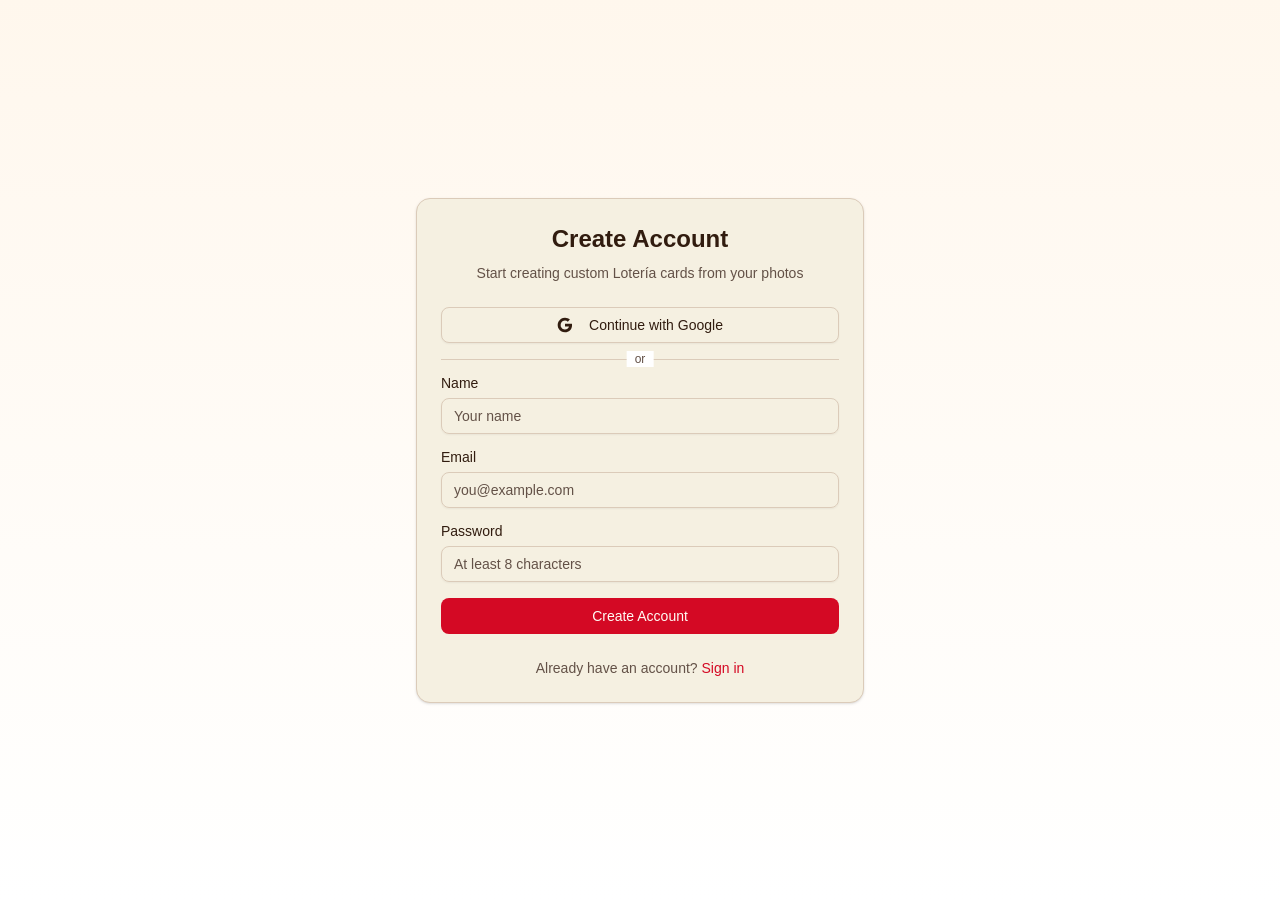
Test: sign-up page error handling › never renders better-auth’s account-existence message
The image size is (1280, 900).
Type "Ada" into the field labelled "Name" at coordinates (640, 416), box [441,398,839,434]
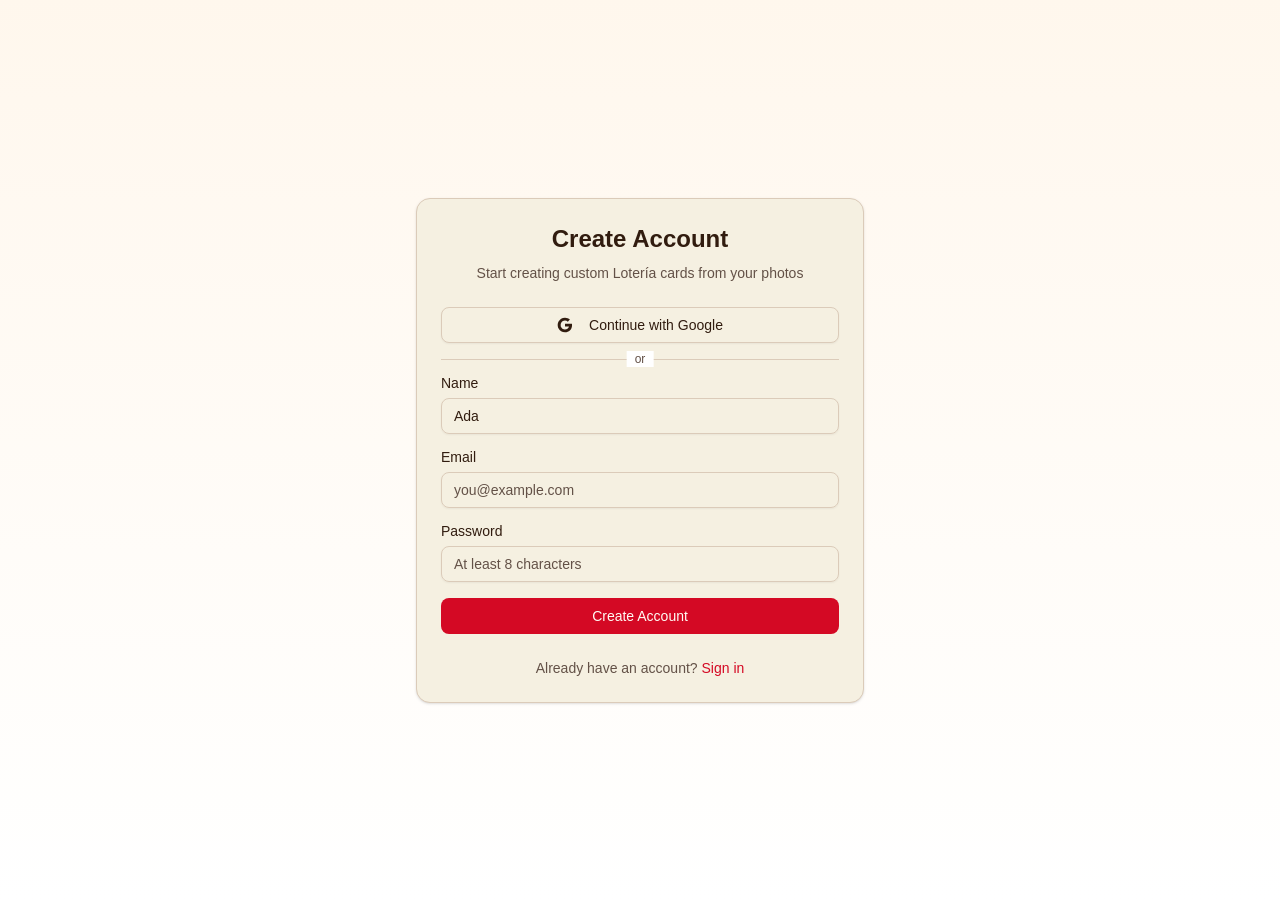
Type "taken@example.com" into the field labelled "Email" at coordinates (640, 490), box [441,472,839,508]
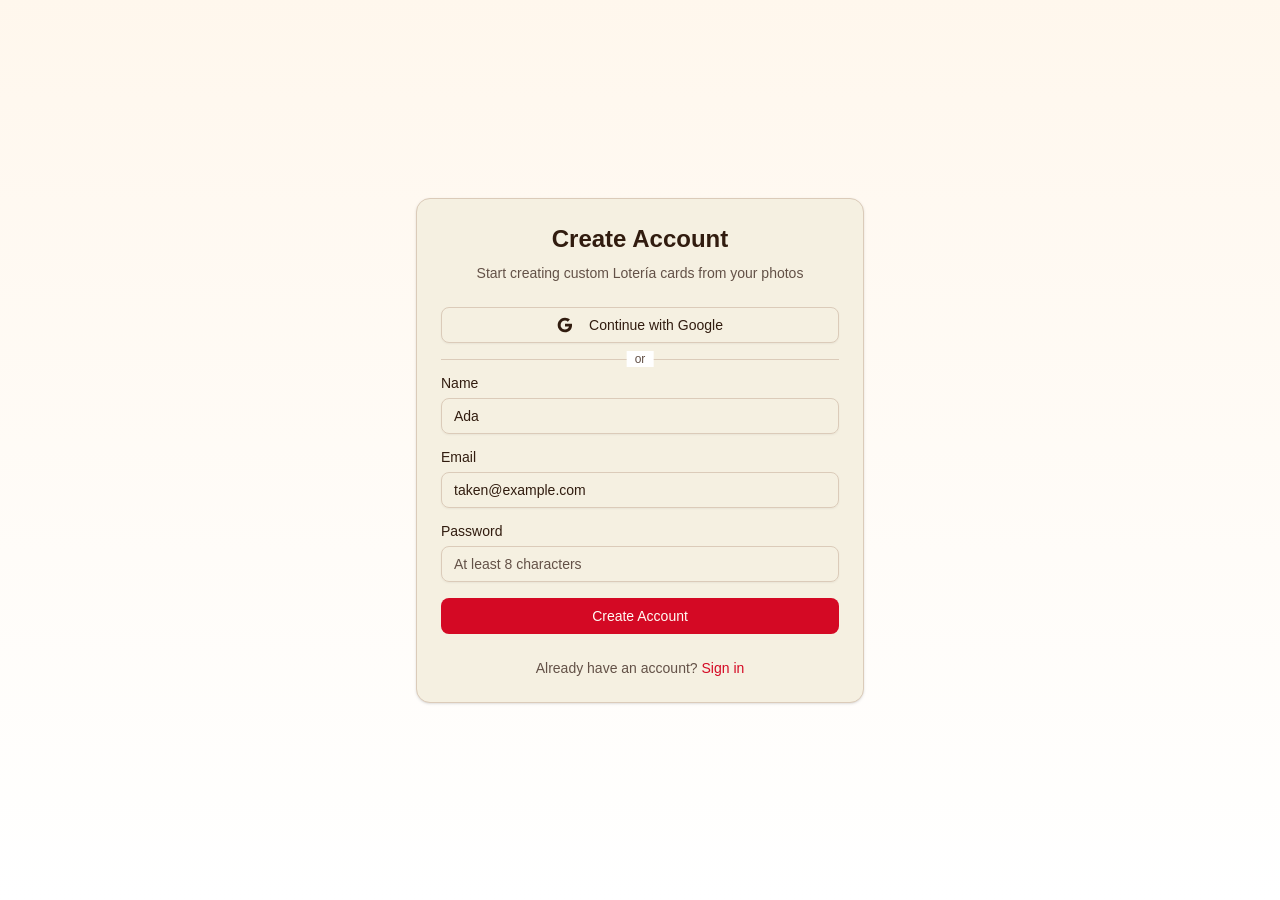
Type "TestPassword123!" into the password field labelled "Password" at coordinates (640, 564), box [441,546,839,582]
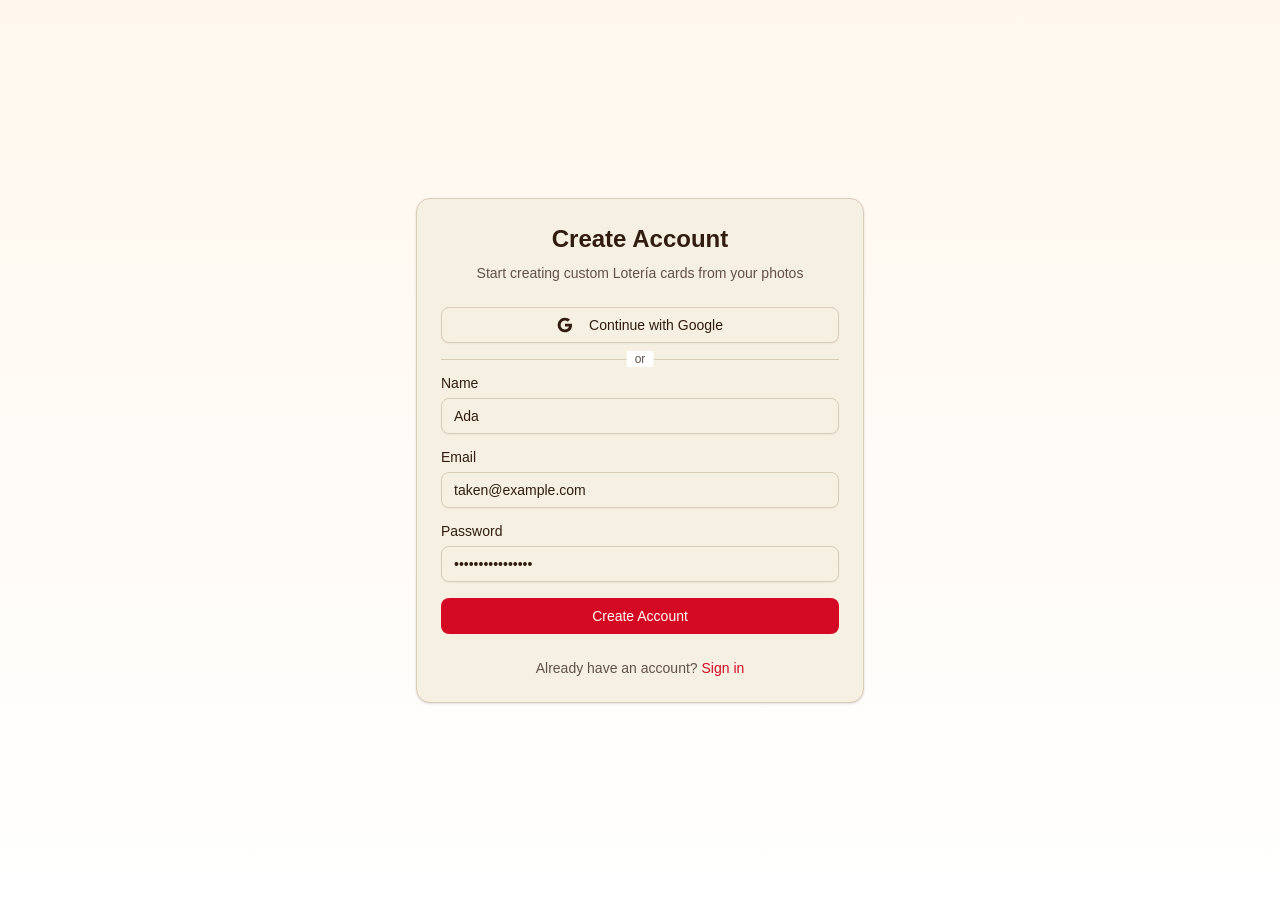
Click the button "Create Account" at coordinates (640, 616), box [441,598,839,634]
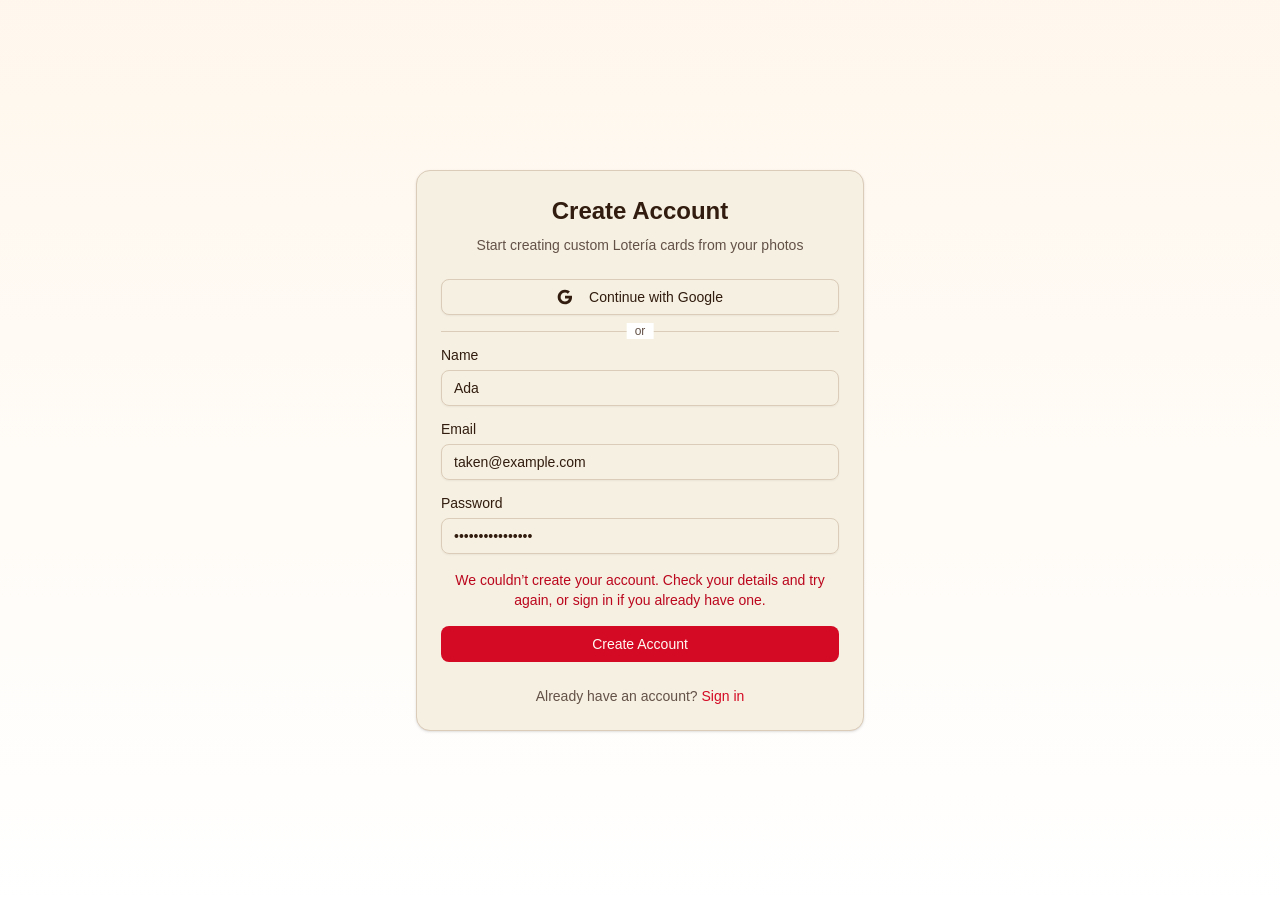
Check: the text "We couldn’t create your account" is shown, box [455,572,825,608]
